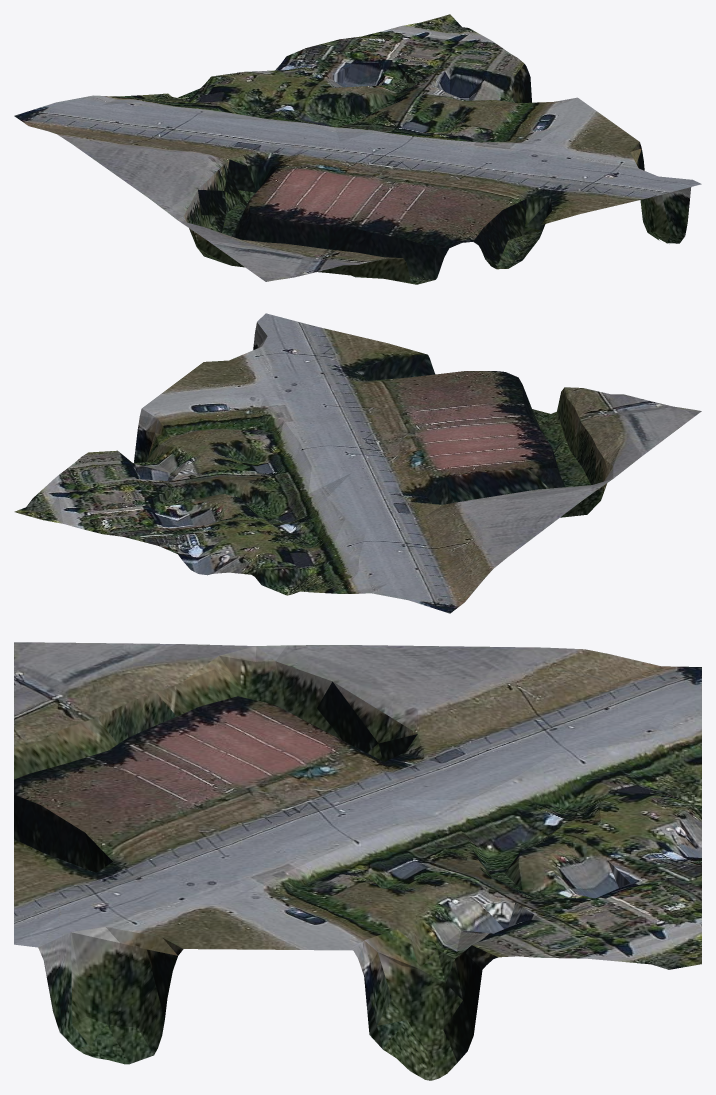
Rendered from map_15_8187_13784.dae.
3 views of the same model, one above another, from view 1: azimuth 30°, elevation 25°; view 2: azimuth 150°, elevation 25°; view 3: azimuth 270°, elevation 25° (orthographic). The views are drawn at different scales.
Visible parts, largest first — view 1: Ter0; view 2: Ter0; view 3: Ter0.
Part boxes in pixels (x1,y1,x2,y2): Ter0: (14, 14, 701, 284); Ter0: (14, 313, 701, 613); Ter0: (14, 642, 701, 1080).
Bounding box in the file's own units: 63.87 × 63.88 × 15.15.
3 materials, 3 textured.
